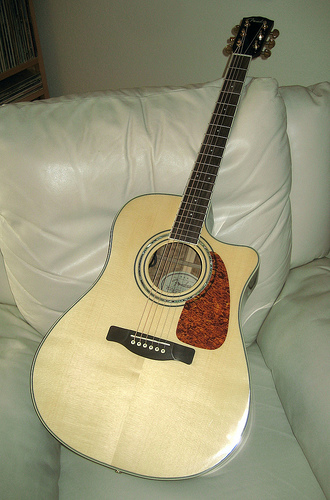guitar: (27, 12, 279, 484)
